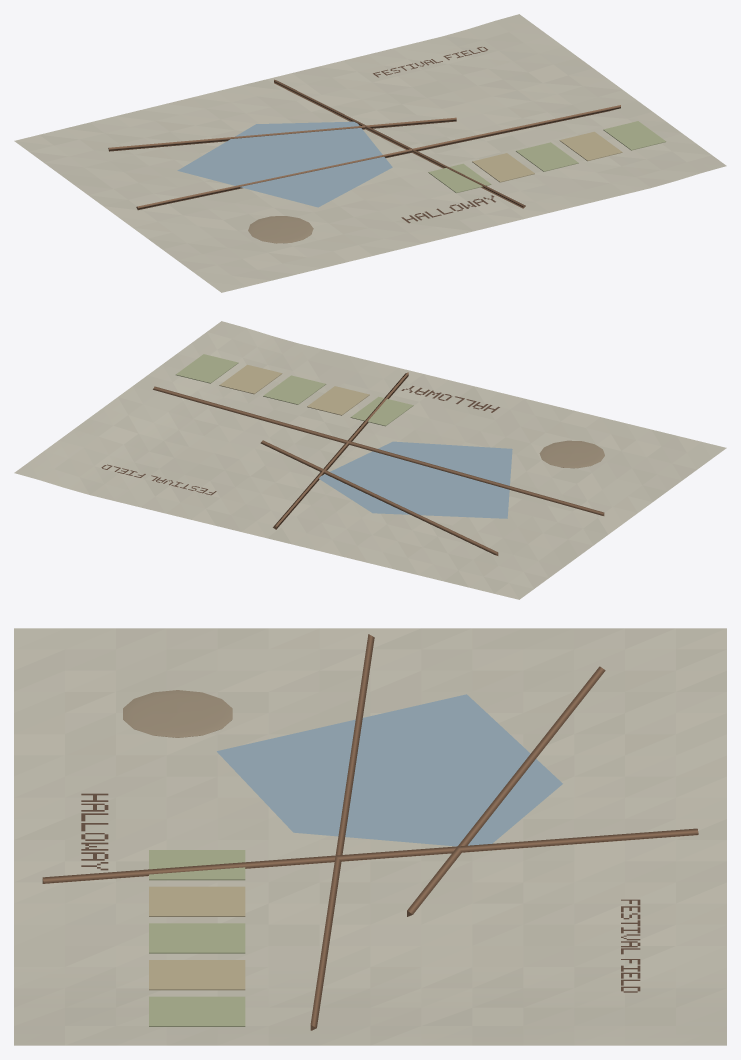
The model's file is storm_map_a.glb.
The picture shows the model from 3 angles, top to bottom: view 1: azimuth 30°, elevation 25°; view 2: azimuth 150°, elevation 25°; view 3: azimuth 270°, elevation 25°; orthographic projection. The views are drawn at different scales.
Visible parts, largest first — view 1: body; view 2: body; view 3: body.
Boxes of the visible parts, bbox=[...] form: body: bbox=[14, 14, 726, 292]; body: bbox=[14, 321, 726, 599]; body: bbox=[14, 628, 726, 1045].
Size of the model in its own units: 0.52 by 0.00611 by 0.37.
